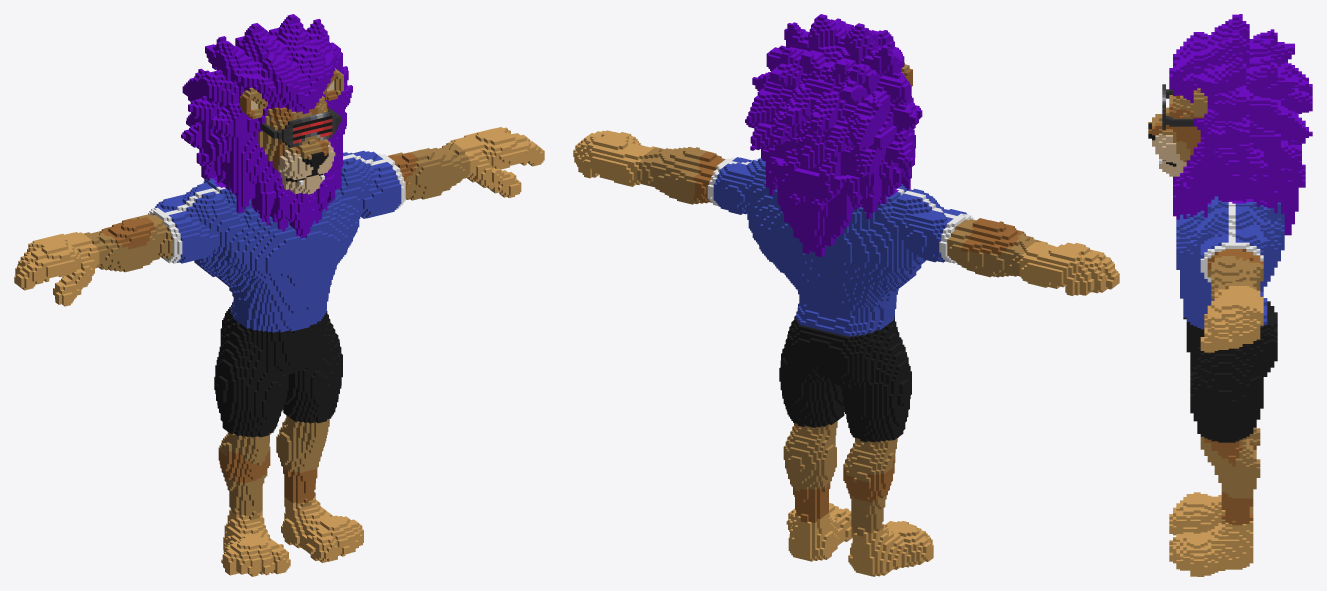
The model's file is 419-CMOT6pjQ.glb.
3 views of the same model, side by side, from view 1: azimuth 30°, elevation 25°; view 2: azimuth 150°, elevation 25°; view 3: azimuth 270°, elevation 25° (orthographic). The views are drawn at different scales.
Parts seen in each view (by area): view 1: standard; view 2: standard; view 3: standard.
Part boxes in pixels (<box>): standard: <box>14,14,544,576</box>; standard: <box>573,14,1119,576</box>; standard: <box>1148,14,1312,576</box>.
Bounding box in the file's own units: 17.2 × 16.5 × 4.7.
5 materials, 5 textured.
